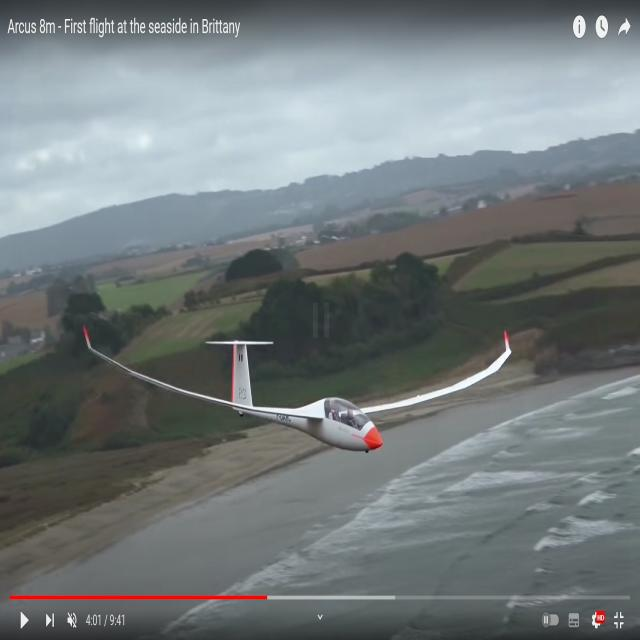iha: (83, 358, 514, 415)
